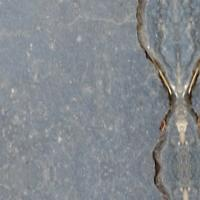crack: (118, 0, 199, 199)
